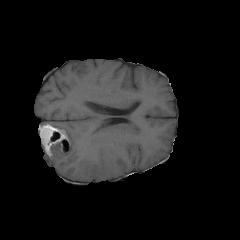glioma: (38, 122, 124, 179)
